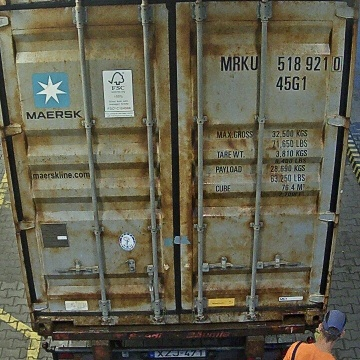serial_id: (221, 55, 342, 70)
